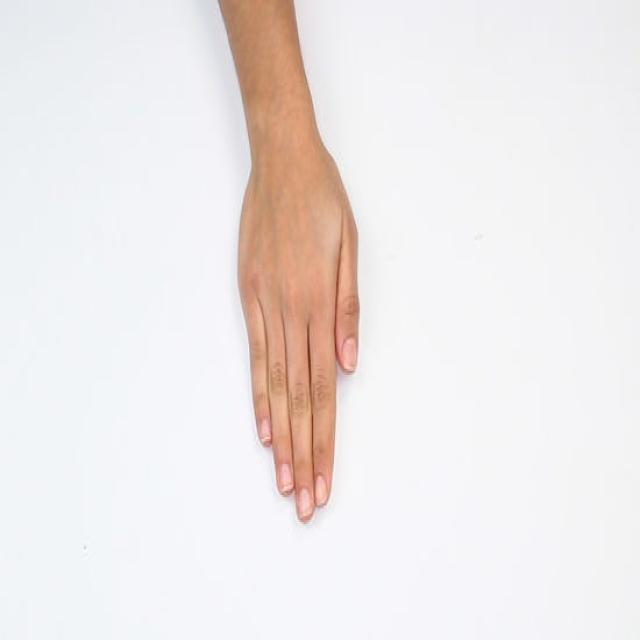no-gloves: (237, 142, 360, 521)
